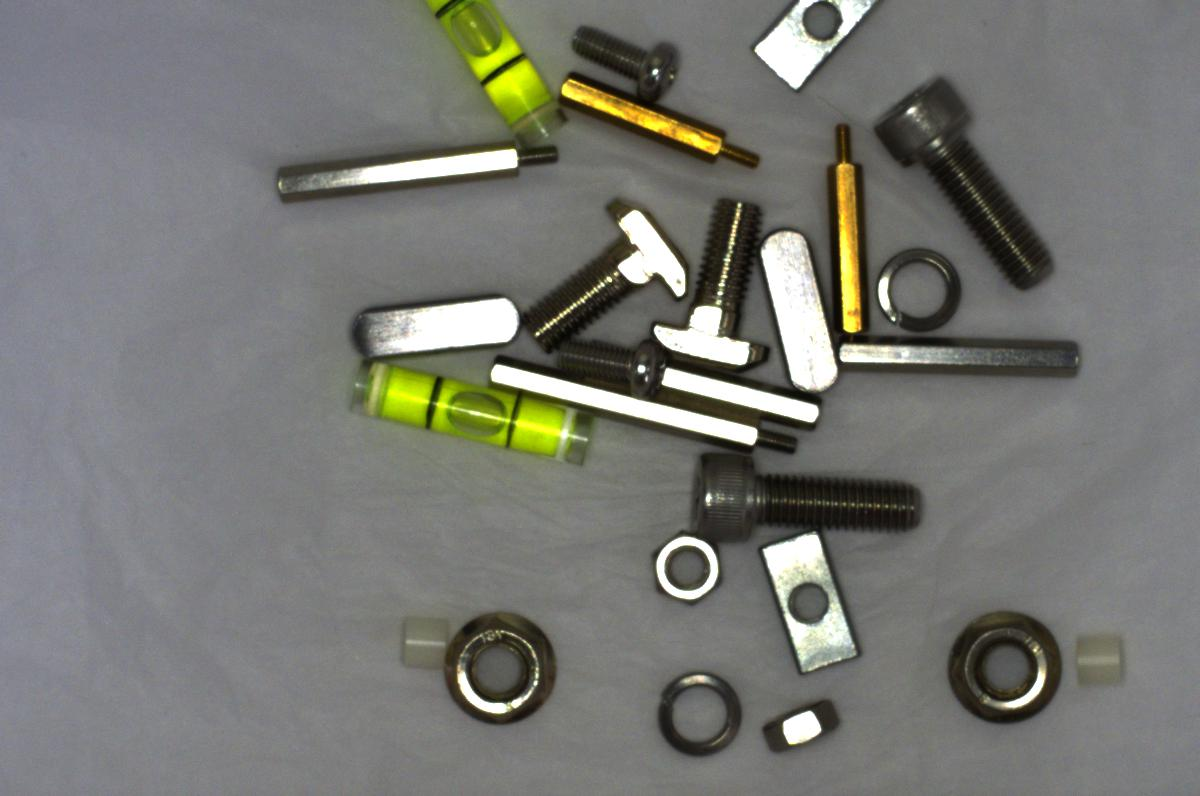Double hexagonal column: (656, 358, 834, 437), (837, 332, 1088, 386)
Flange nut: (442, 605, 560, 731), (942, 608, 1067, 723)
Hexagon nut: (647, 523, 725, 613), (761, 694, 846, 763)
Hexagon pillar: (551, 68, 762, 168), (820, 117, 879, 340)
Hexagon screw: (882, 71, 1067, 296), (682, 454, 939, 549)
Hexagonal steel column: (453, 362, 802, 458), (262, 135, 573, 204)
Horizontal bubble: (338, 350, 592, 464), (415, 8, 573, 142)
Keybar: (756, 223, 848, 399), (339, 278, 520, 363)
Plastic cushion pillar: (1062, 619, 1142, 703), (388, 608, 452, 678)
Rectangular nut: (761, 527, 865, 678), (747, 6, 875, 94)
Round head screw: (565, 17, 689, 105), (557, 332, 665, 387)
Spring washer: (871, 240, 969, 337), (652, 665, 747, 764)
T-shaped screw: (641, 183, 773, 377), (516, 195, 685, 346)
